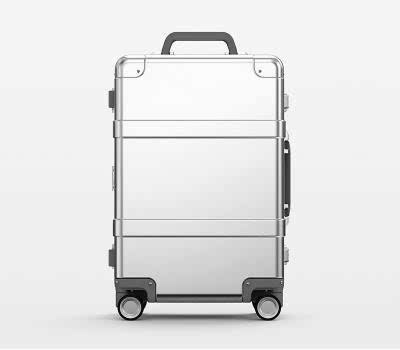suitcase: (105, 32, 295, 324)
